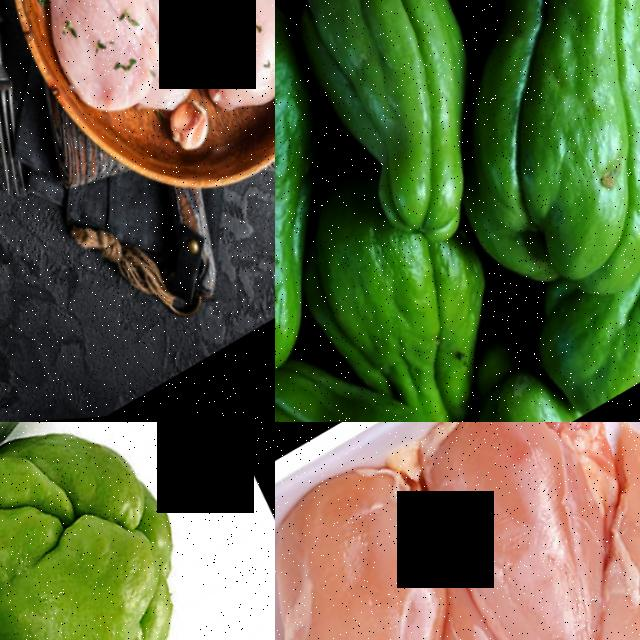chayote: (381, 0, 640, 323), (275, 0, 524, 255), (0, 422, 275, 640), (311, 185, 533, 422), (275, 0, 407, 394), (516, 192, 640, 422), (275, 343, 455, 422)
chicken breast: (359, 422, 640, 640), (275, 422, 507, 640), (0, 0, 243, 176), (77, 0, 275, 134)
